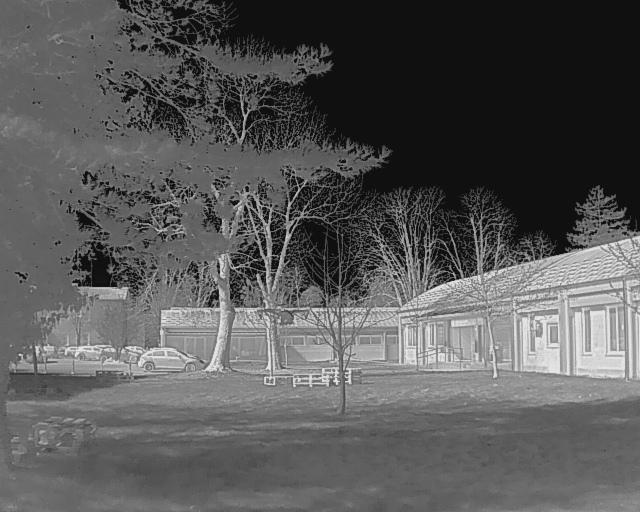drone: (248, 300, 318, 329)
